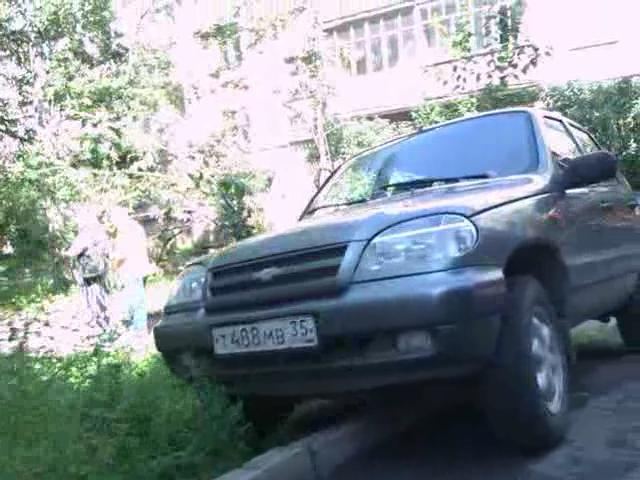car license plate: (210, 309, 321, 361)
